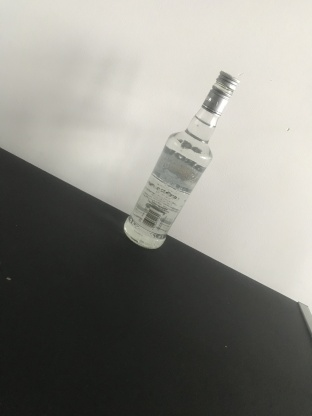nakretka: (199, 67, 241, 117)
